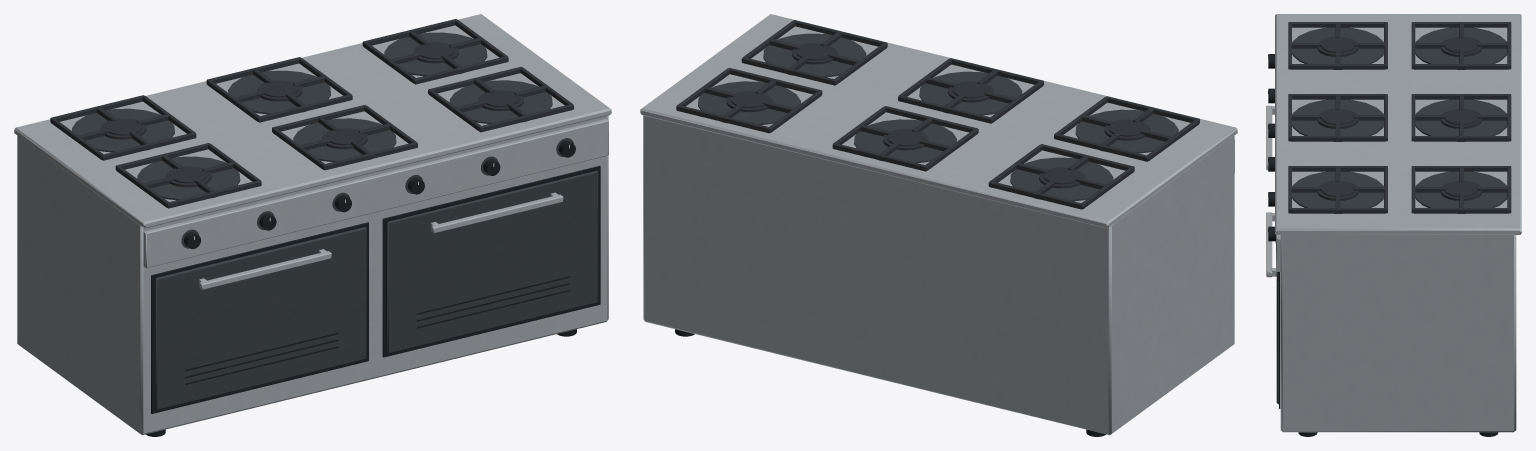
The model's file is fogao_realista.glb.
3 views of the same model, side by side, from view 1: azimuth 30°, elevation 25°; view 2: azimuth 150°, elevation 25°; view 3: azimuth 270°, elevation 25° (orthographic). The views are drawn at different scales.
Parts seen in each view (by area): view 1: Cozinha_Fogao_PBR; view 2: Cozinha_Fogao_PBR; view 3: Cozinha_Fogao_PBR.
Boxes of the visible parts, x1=… form: Cozinha_Fogao_PBR: x1=14, y1=14, x2=611, y2=436; Cozinha_Fogao_PBR: x1=640, y1=14, x2=1237, y2=436; Cozinha_Fogao_PBR: x1=1266, y1=14, x2=1521, y2=436.
Size of the model in its own units: 1.8 by 0.865 by 0.9.
Materials: 1 (1 with a texture image).
